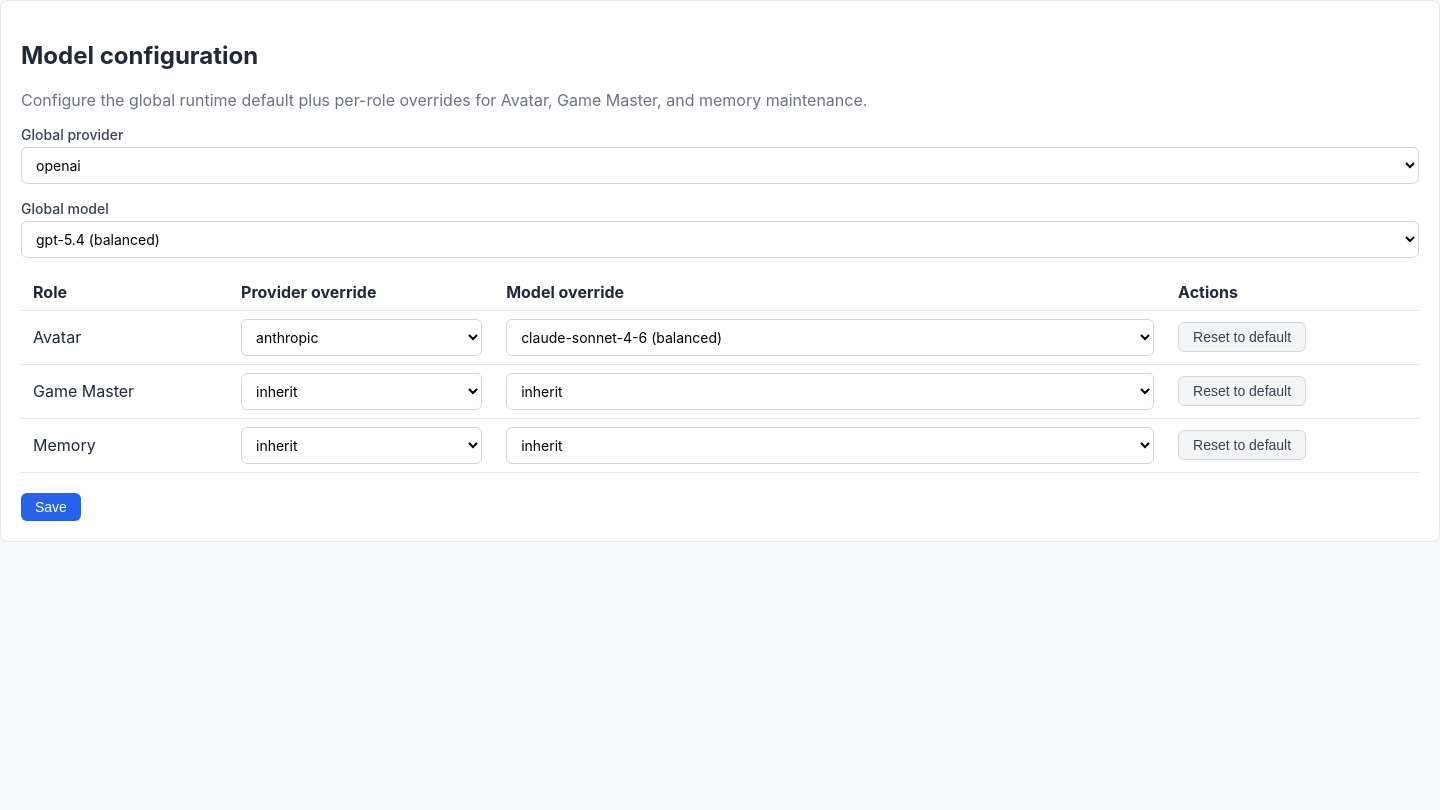
Scenario: ModelConfigPage › saves the edited model config
The image size is (1440, 810).
Select "xai" in the dropdown named "Avatar provider" at (362, 337), box [241, 319, 482, 356]
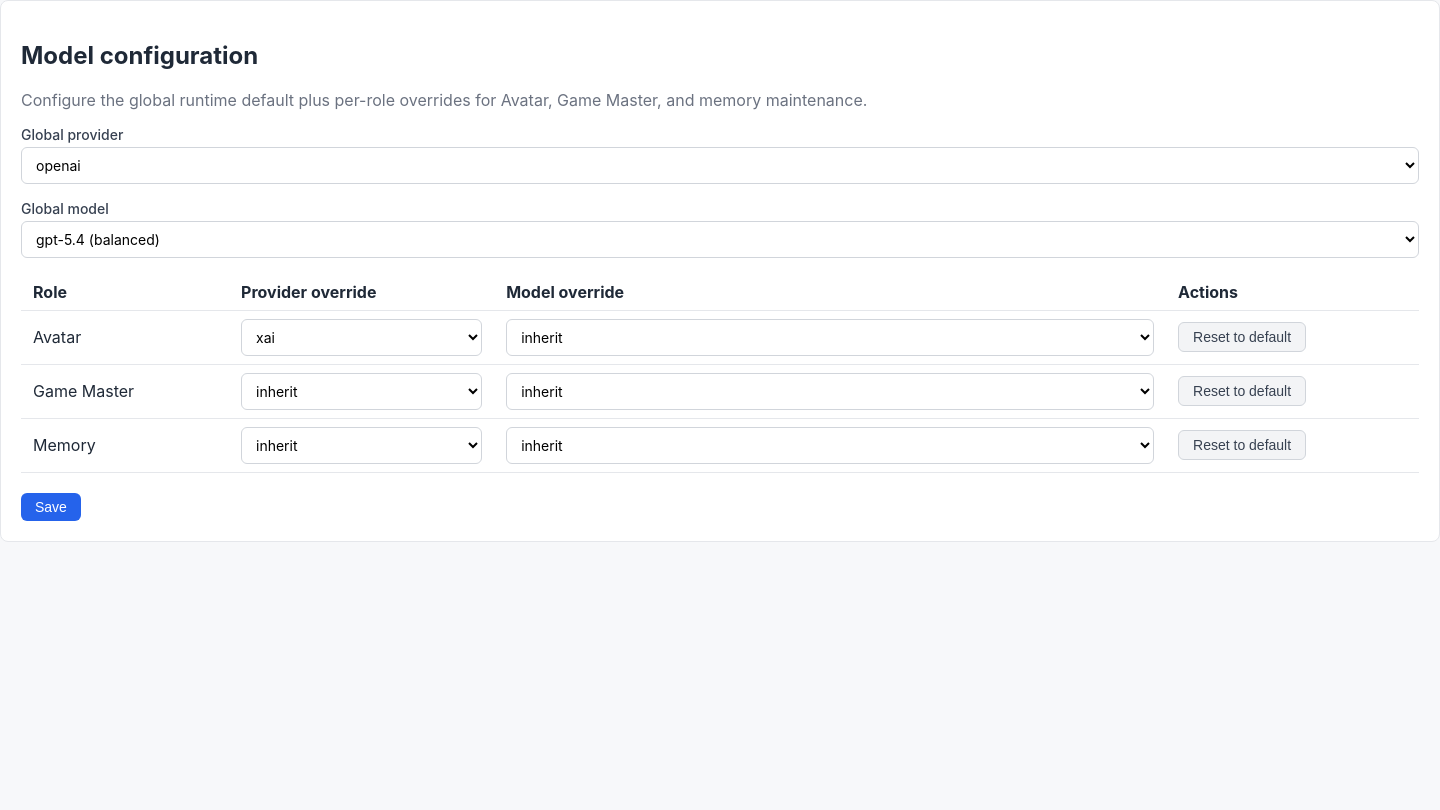
Select "grok-4.3 (chat)" in the dropdown named "Avatar model" at (830, 337), box [506, 319, 1154, 356]
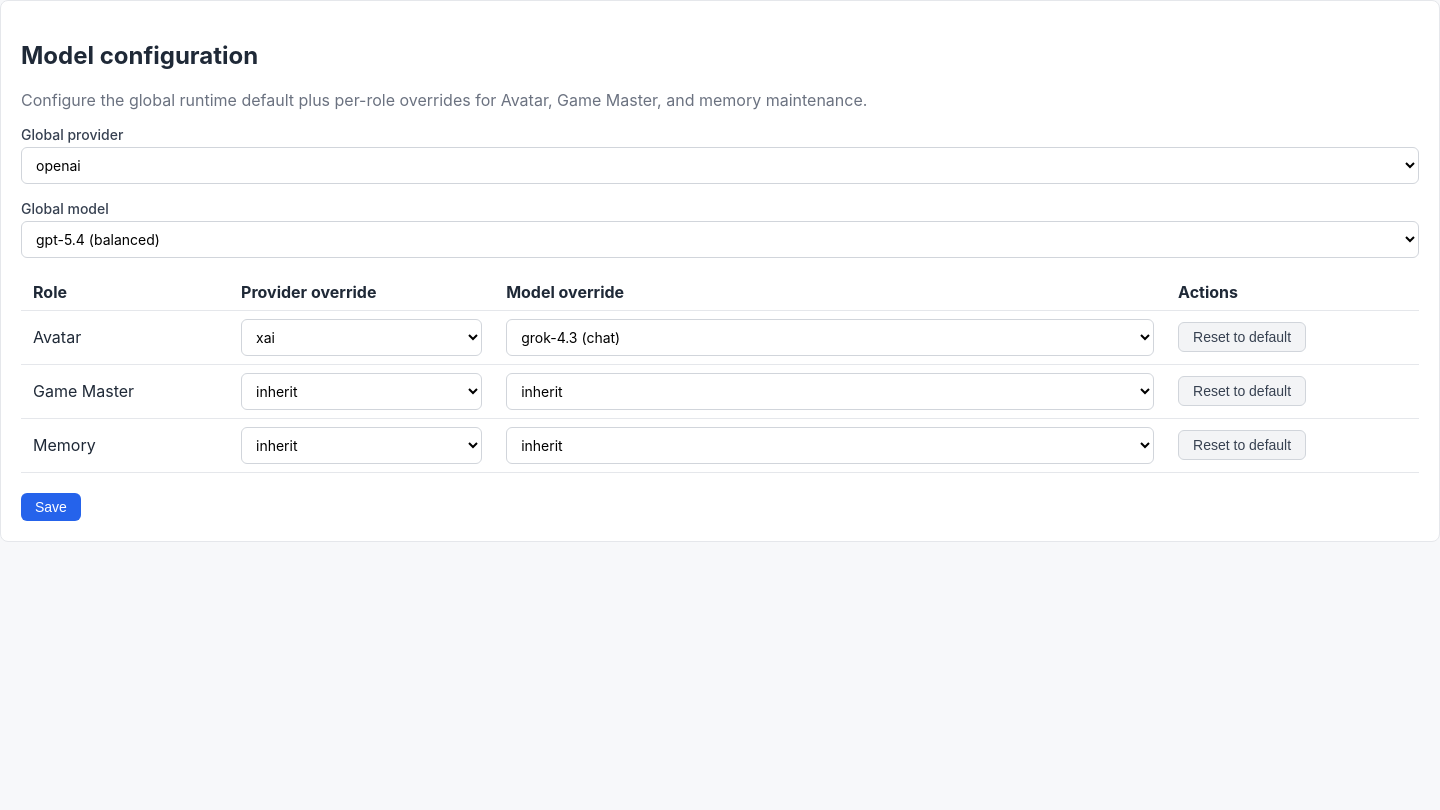
Click the button "Save" at (51, 507), box [21, 493, 81, 521]
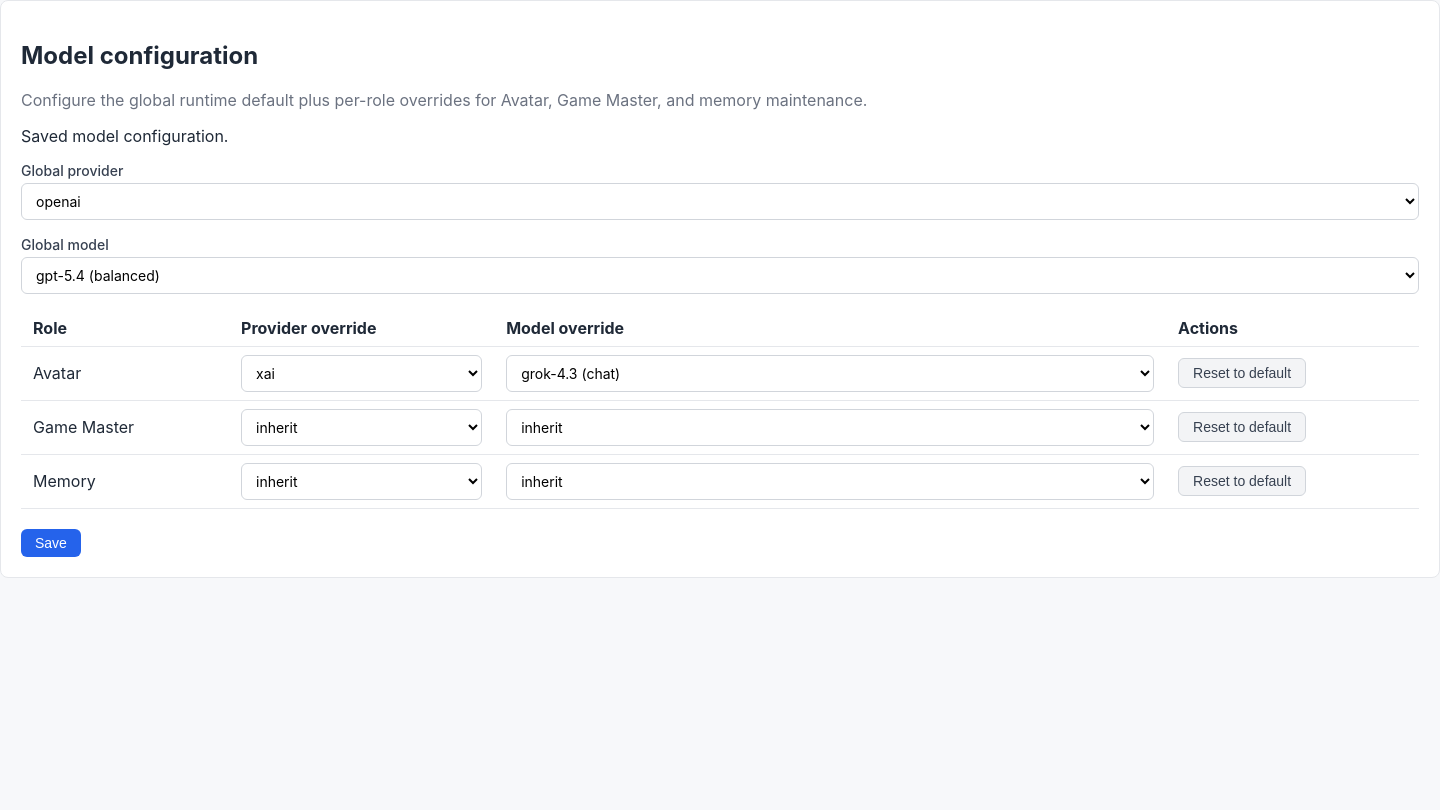
Result: the text "Saved model configuration." is shown at [21, 126, 228, 146]
